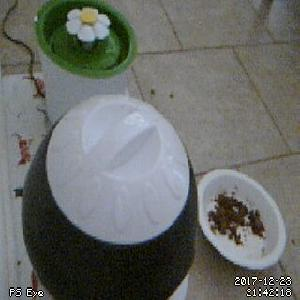fountain: (35, 1, 137, 78)
